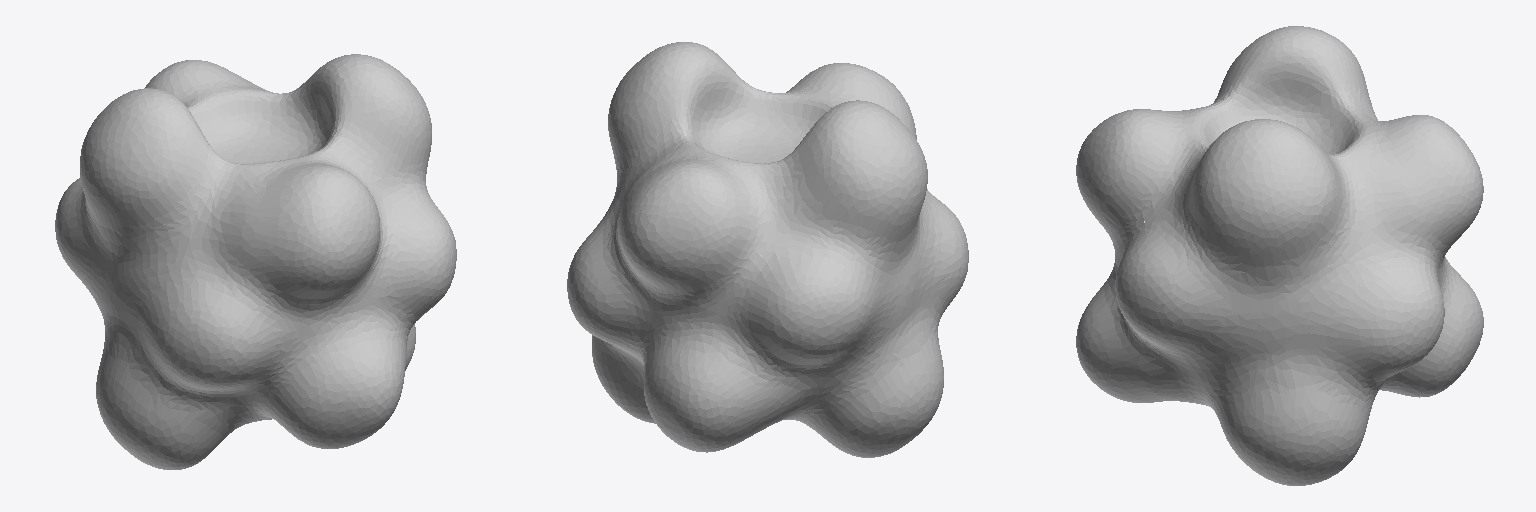
File: grow-2.obj
3 views of the same model, side by side, from view 1: azimuth 30°, elevation 25°; view 2: azimuth 150°, elevation 25°; view 3: azimuth 270°, elevation 25° (orthographic).
Parts seen in each view (by area): view 1: Quad_Sphere; view 2: Quad_Sphere; view 3: Quad_Sphere.
Boxes of the visible parts, x1=… form: Quad_Sphere: x1=55, y1=54, x2=456, y2=469; Quad_Sphere: x1=567, y1=42, x2=968, y2=457; Quad_Sphere: x1=1076, y1=26, x2=1483, y2=485.
Size of the model in its own units: 2.85 by 3.09 by 3.19.